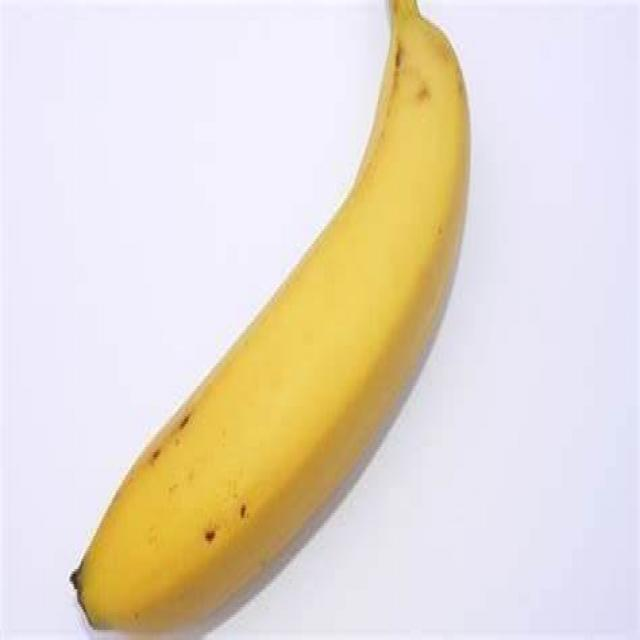Banana: (63, 22, 476, 631)
